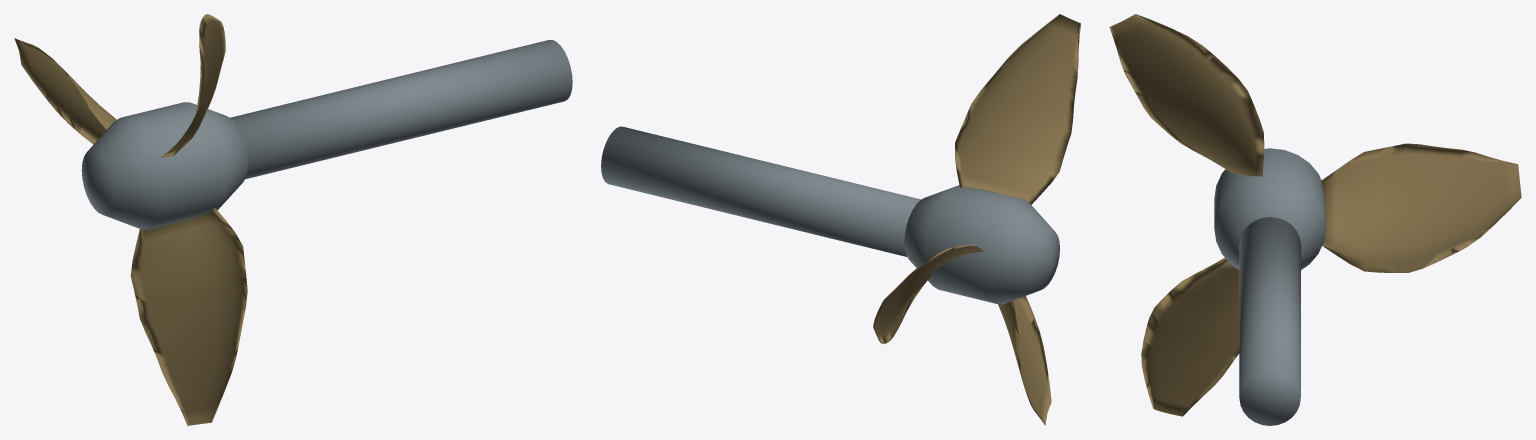
The model's file is PROP_T02_IMPROVED_LOD0.fbx.
The picture shows the model from 3 angles, left to right: view 1: azimuth 30°, elevation 25°; view 2: azimuth 150°, elevation 25°; view 3: azimuth 270°, elevation 25°; orthographic projection. The views are drawn at different scales.
Visible parts, largest first — view 1: PROP_T02_IMPROVED_LOD0_Shaft.001, PROP_T02_IMPROVED_LOD0_Blade_02.001, PROP_T02_IMPROVED_LOD0_Hub.001, PROP_T02_IMPROVED_LOD0_Blade_00.001, PROP_T02_IMPROVED_LOD0_Blade_01.001; view 2: PROP_T02_IMPROVED_LOD0_Shaft.001, PROP_T02_IMPROVED_LOD0_Blade_01.001, PROP_T02_IMPROVED_LOD0_Hub.001, PROP_T02_IMPROVED_LOD0_Blade_02.001, PROP_T02_IMPROVED_LOD0_Blade_00.001; view 3: PROP_T02_IMPROVED_LOD0_Blade_00.001, PROP_T02_IMPROVED_LOD0_Blade_01.001, PROP_T02_IMPROVED_LOD0_Shaft.001, PROP_T02_IMPROVED_LOD0_Blade_02.001, PROP_T02_IMPROVED_LOD0_Hub.001.
Part boxes in pixels (x1,y1,x2,y2): PROP_T02_IMPROVED_LOD0_Shaft.001: [230, 40, 572, 179]; PROP_T02_IMPROVED_LOD0_Blade_02.001: [130, 208, 247, 425]; PROP_T02_IMPROVED_LOD0_Hub.001: [81, 102, 248, 229]; PROP_T02_IMPROVED_LOD0_Blade_00.001: [14, 38, 116, 144]; PROP_T02_IMPROVED_LOD0_Blade_01.001: [160, 14, 225, 157]; PROP_T02_IMPROVED_LOD0_Shaft.001: [601, 126, 920, 256]; PROP_T02_IMPROVED_LOD0_Blade_01.001: [955, 14, 1080, 204]; PROP_T02_IMPROVED_LOD0_Hub.001: [904, 185, 1059, 304]; PROP_T02_IMPROVED_LOD0_Blade_02.001: [998, 296, 1051, 425]; PROP_T02_IMPROVED_LOD0_Blade_00.001: [873, 244, 983, 343]; PROP_T02_IMPROVED_LOD0_Blade_00.001: [1321, 143, 1521, 272]; PROP_T02_IMPROVED_LOD0_Blade_01.001: [1109, 14, 1264, 176]; PROP_T02_IMPROVED_LOD0_Shaft.001: [1239, 217, 1300, 425]; PROP_T02_IMPROVED_LOD0_Blade_02.001: [1141, 258, 1239, 416]; PROP_T02_IMPROVED_LOD0_Hub.001: [1214, 148, 1325, 269].
Size of the model in its own units: 374 by 295 by 322.
